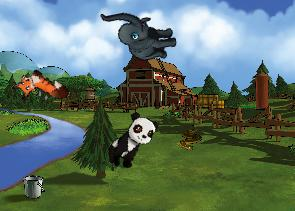elephant: (100, 0, 179, 68)
fox: (9, 61, 71, 118)
panda: (102, 108, 161, 175)
